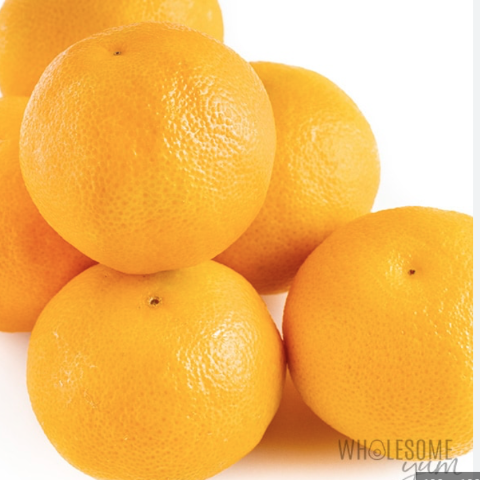orange: (12, 250, 325, 479), (9, 24, 294, 275), (279, 166, 480, 460)
